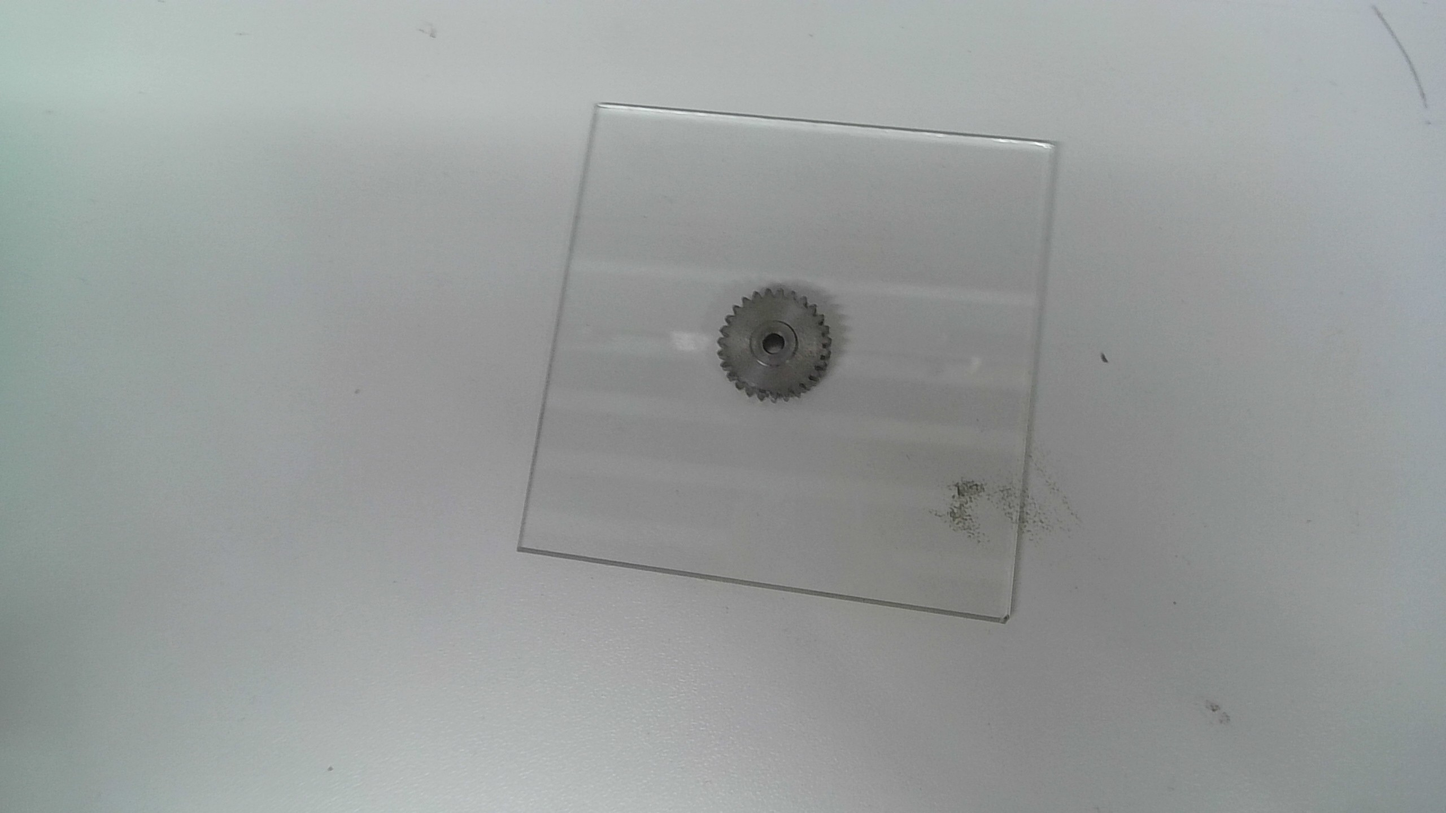gear: (713, 283, 834, 406)
